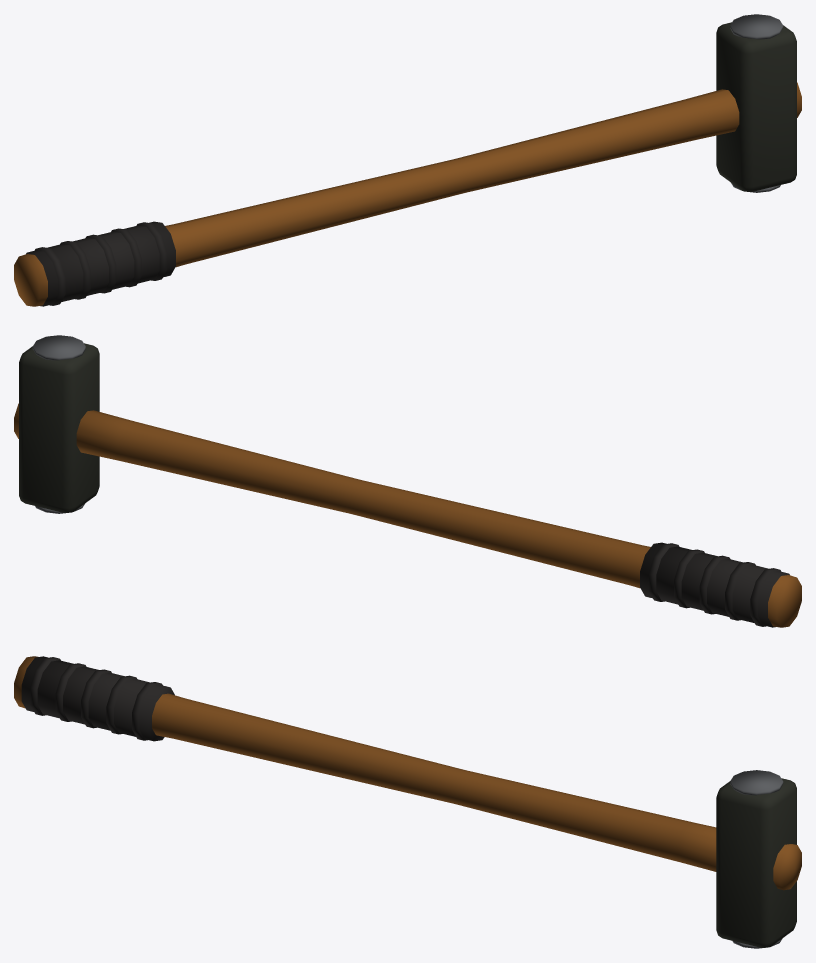
File: item_sledge.glb
3 renders of one model, top to bottom at view 1: azimuth 30°, elevation 25°; view 2: azimuth 150°, elevation 25°; view 3: azimuth 330°, elevation 25°, orthographic.
Visible parts, largest first — view 1: haft, head, grip, face_1, grip_turn_4, grip_turn_1, grip_turn_2, grip_turn_0, grip_turn_3; view 2: haft, head, grip, face_1, grip_turn_4, grip_turn_1, grip_turn_2, grip_turn_0, grip_turn_3; view 3: haft, head, grip, face_1, grip_turn_4, grip_turn_0, grip_turn_3, grip_turn_1, grip_turn_2.
Boxes of the visible parts, x1,y1,x2,y2 form: haft: (14,82,801,306); head: (716,22,796,191); grip: (26,221,175,306); face_1: (730,14,783,39); grip_turn_4: (136,222,167,280); grip_turn_1: (60,241,90,299); grip_turn_2: (85,234,116,293); grip_turn_0: (34,247,65,305); grip_turn_3: (111,228,141,287); haft: (14,403,801,627); head: (19,343,99,512); grip: (640,542,789,627); face_1: (32,335,85,360); grip_turn_4: (648,543,679,601); grip_turn_1: (725,562,755,620); grip_turn_2: (699,555,730,614); grip_turn_0: (750,568,781,626); grip_turn_3: (674,549,704,608); haft: (14,656,801,890); head: (716,778,796,947); grip: (21,656,174,741); face_1: (730,770,783,795); grip_turn_4: (132,682,162,740); grip_turn_0: (30,657,60,715); grip_turn_3: (106,675,137,734); grip_turn_1: (55,663,86,721); grip_turn_2: (81,669,111,728).
Size of the model in its own units: 0.905 by 0.176 by 0.066.
